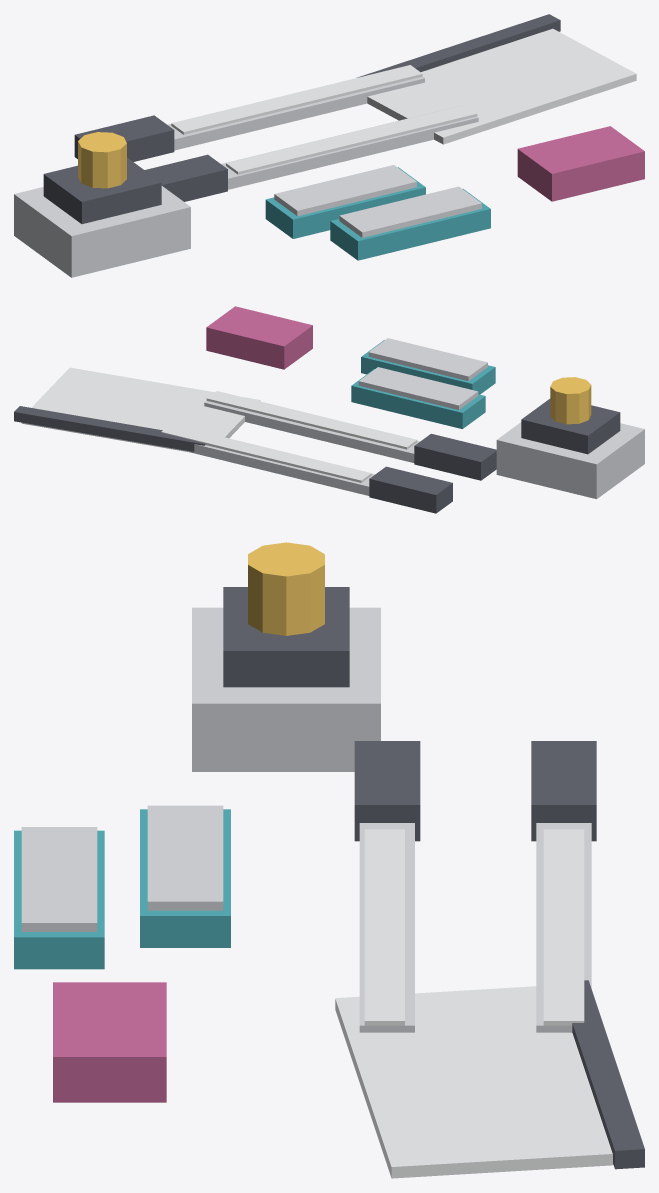
Rendered from snowboard-gear-and-freestyle-riders-edge-tool-set-b1cb9d08__27186.glb.
The picture shows the model from 3 angles, top to bottom: view 1: azimuth 30°, elevation 25°; view 2: azimuth 150°, elevation 25°; view 3: azimuth 270°, elevation 25°; orthographic projection. The views are drawn at different scales.
Parts seen in each view (by area): view 1: edge-tool-set; view 2: edge-tool-set; view 3: edge-tool-set.
Part boxes in pixels (<box>): edge-tool-set: <box>14,14,644,277</box>; edge-tool-set: <box>14,306,644,513</box>; edge-tool-set: <box>14,542,644,1178</box>.
Bounding box in the file's own units: 0.4712 × 0.072 × 0.2501.
